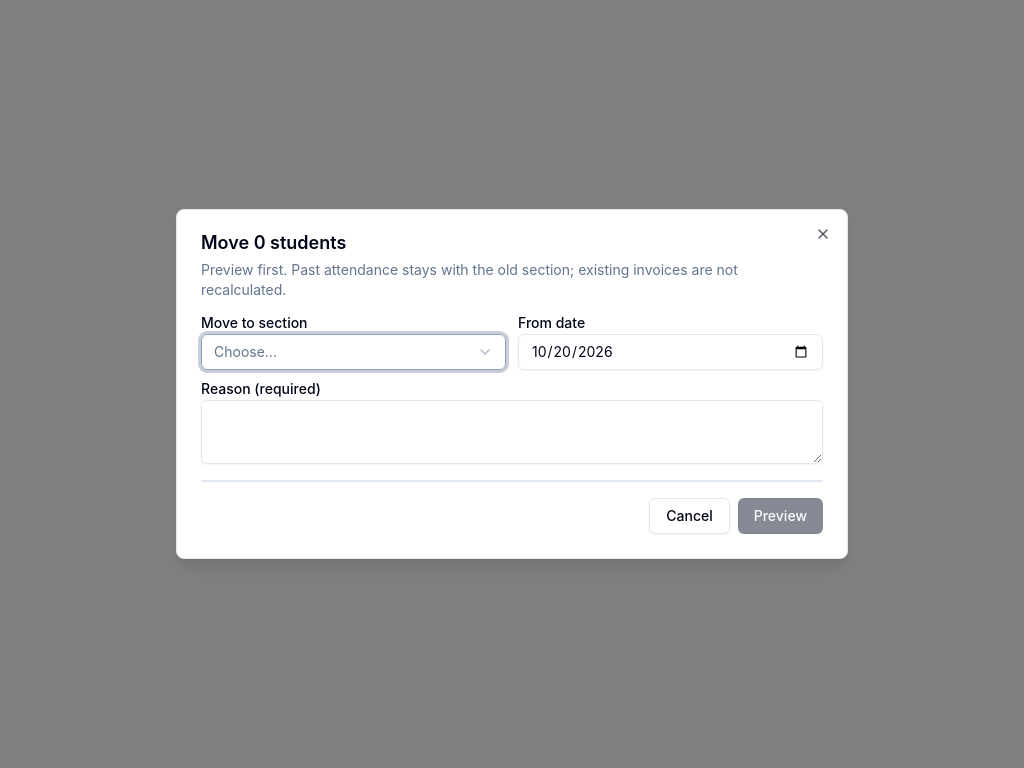
Test: placement move preview → commit › changing an input after preview discards the preview (must re-preview)
Click the dropdown named "Move to section": (245, 352) [201,334,506,370]
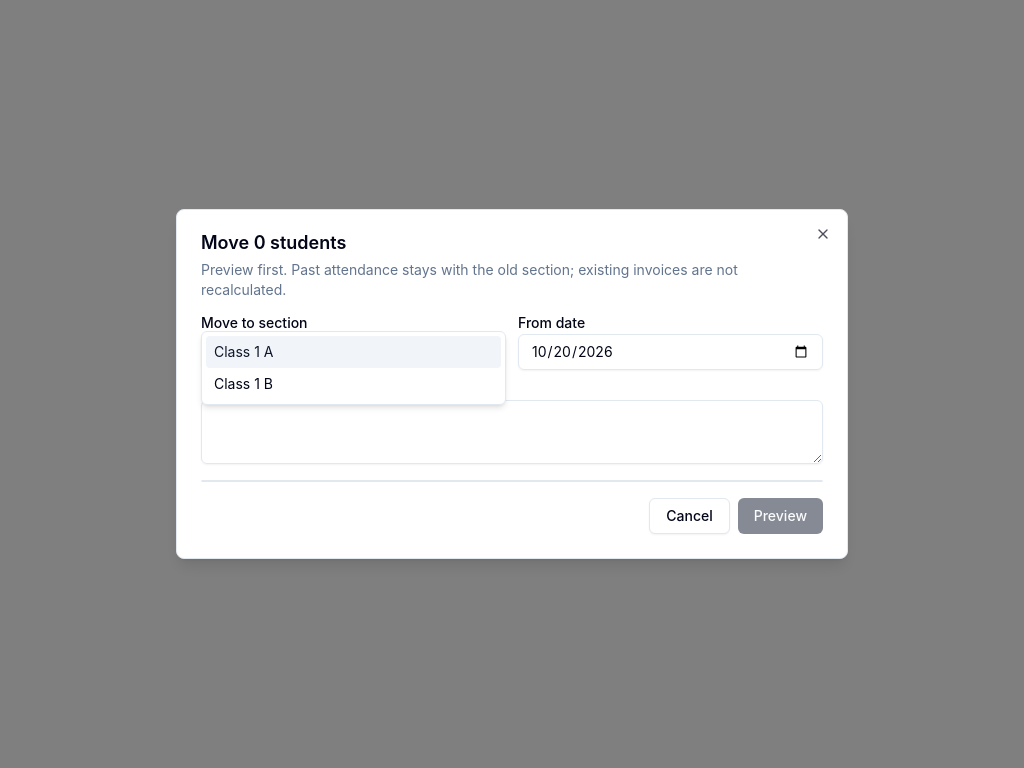
Click the option "Class 1 B": (244, 384) [214,375,273,392]
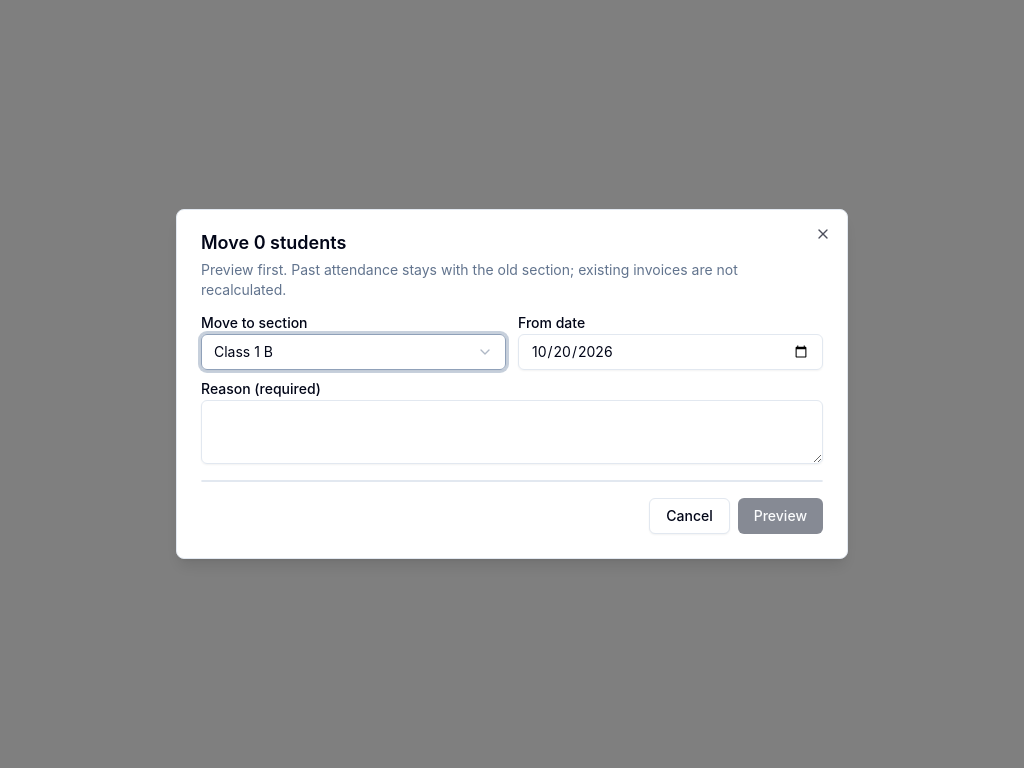
In the text box labelled "Reason (required)": (512, 432) [201,400,823,464], type "x"
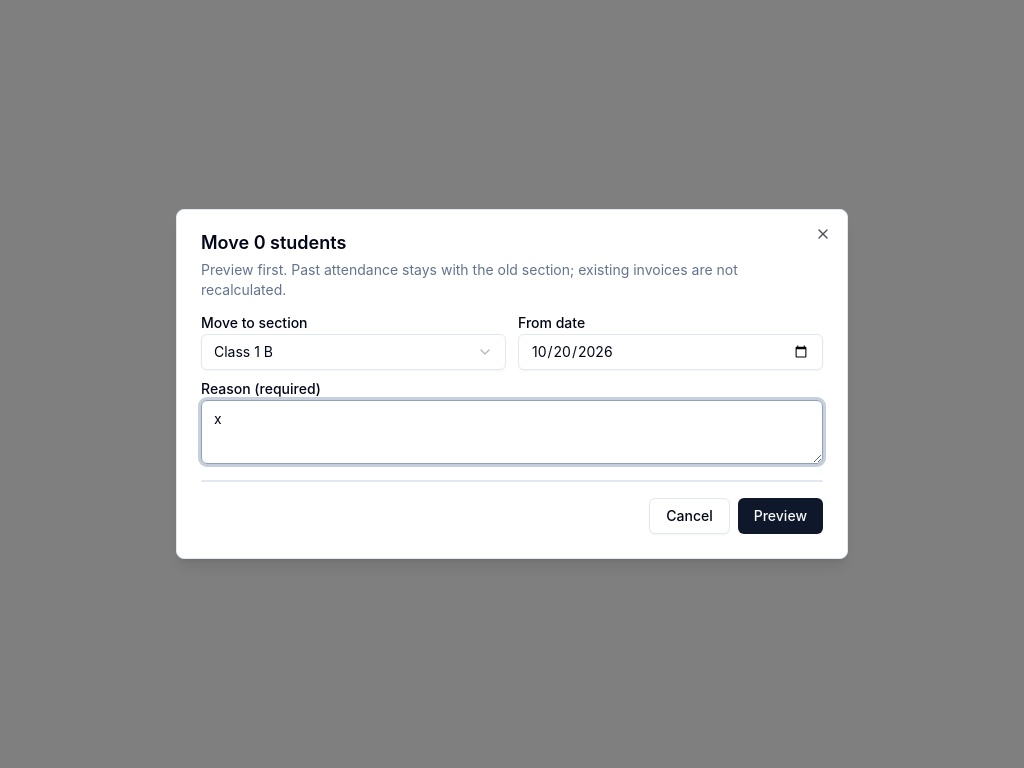
Click the button "Preview": (780, 516) [738,498,823,534]
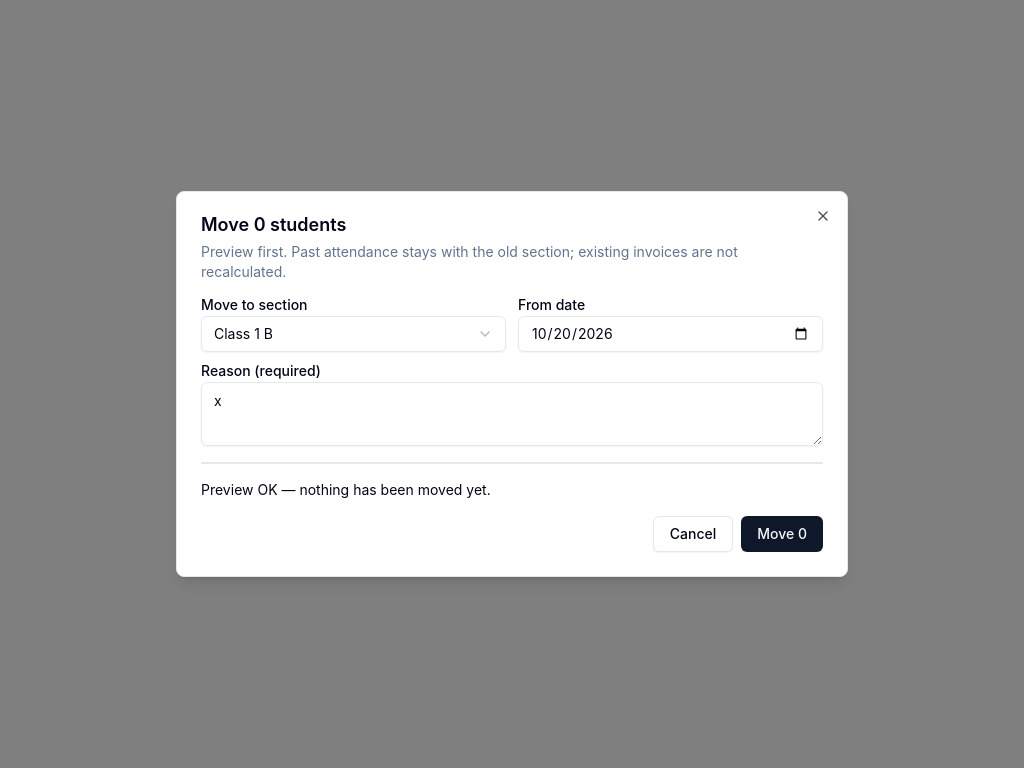
Expected: the button "Move 0" is shown, [741,516,823,552]
In the text box labelled "Reason (required)": (512, 414) [201,382,823,446], type "y"
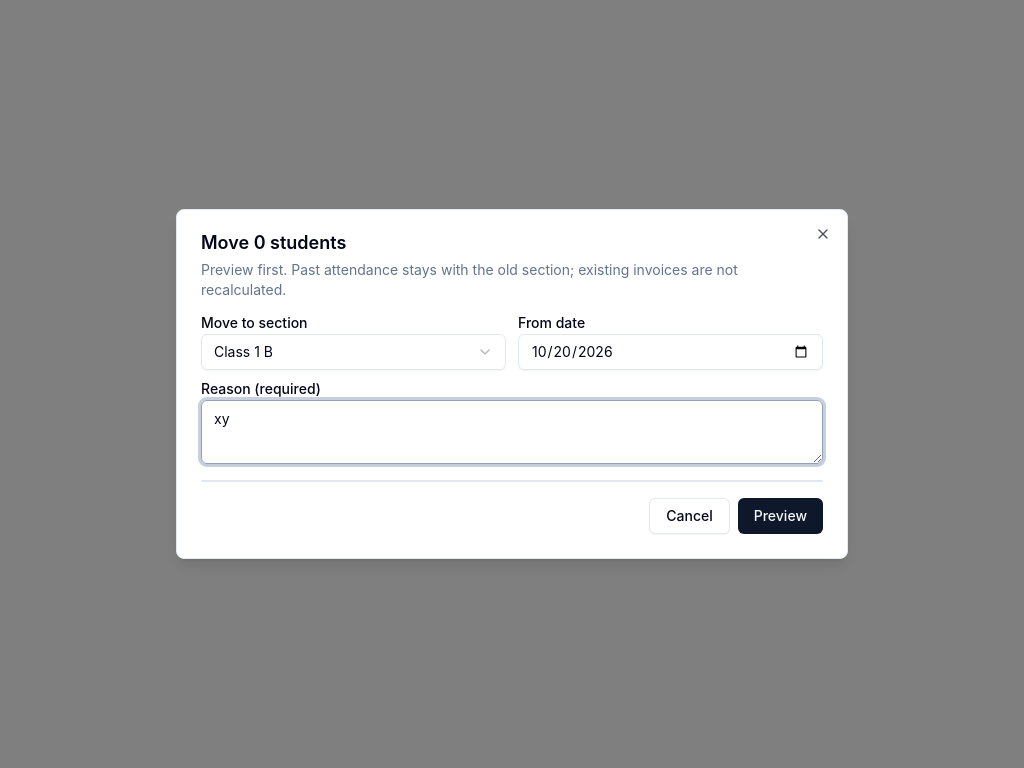
Expected: the button "Preview" is shown, [738,498,823,534]
